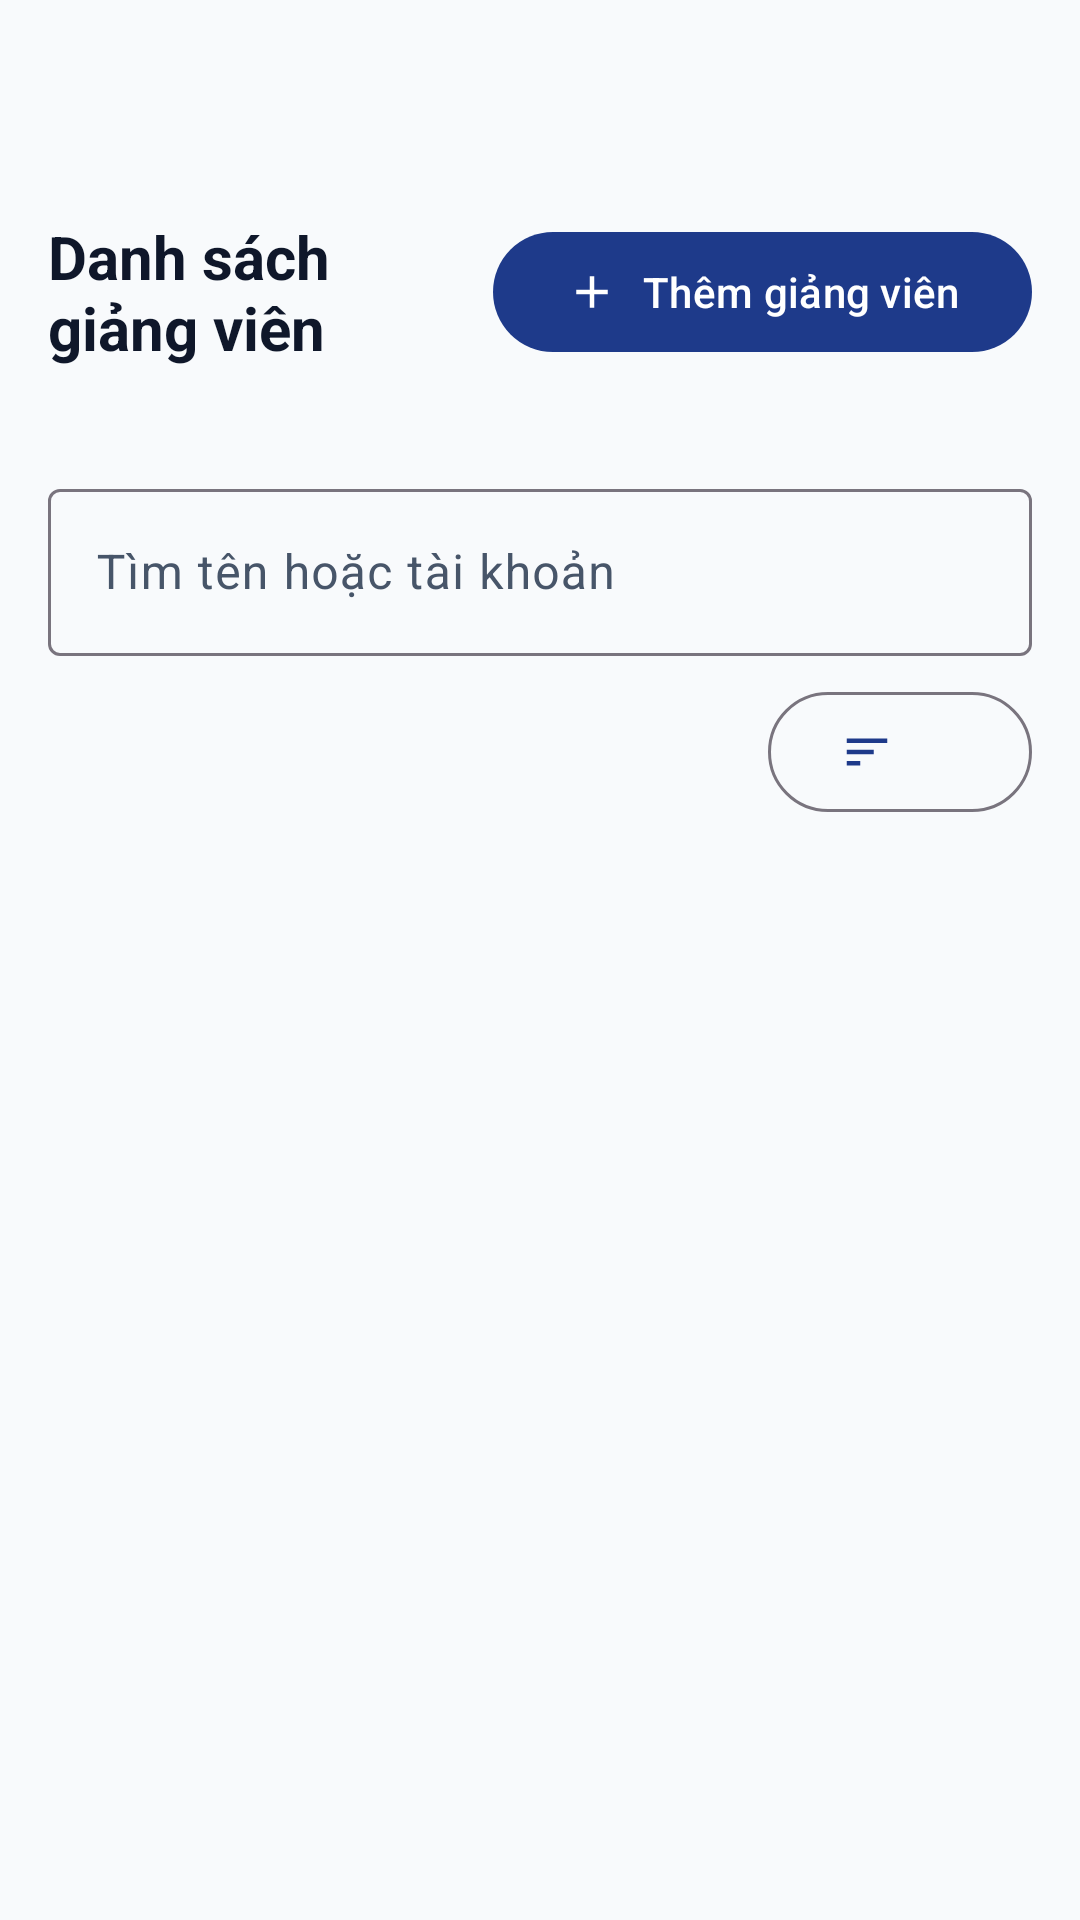

Locate icon controls on the screen. Image size 1080px×1920px, boxes as (x1, y1, x2, y2).
Sắp xếp giảng viên: (768, 692, 1032, 812)
